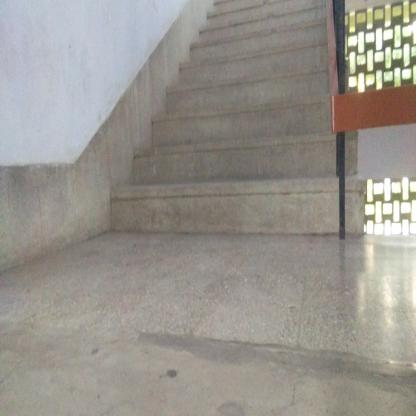stairs: (194, 53, 328, 252)
